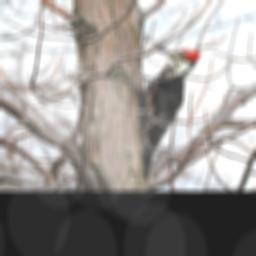Woodpecker: (134, 45, 201, 186)
